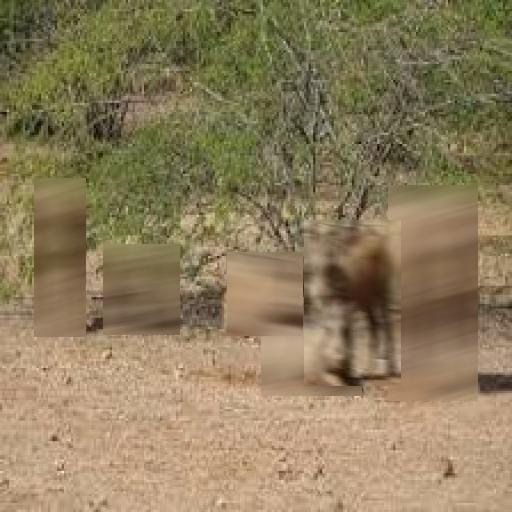Pig: (388, 185, 478, 401), (304, 220, 401, 386), (261, 297, 362, 396), (34, 178, 86, 337), (103, 244, 180, 335), (227, 252, 303, 336)
